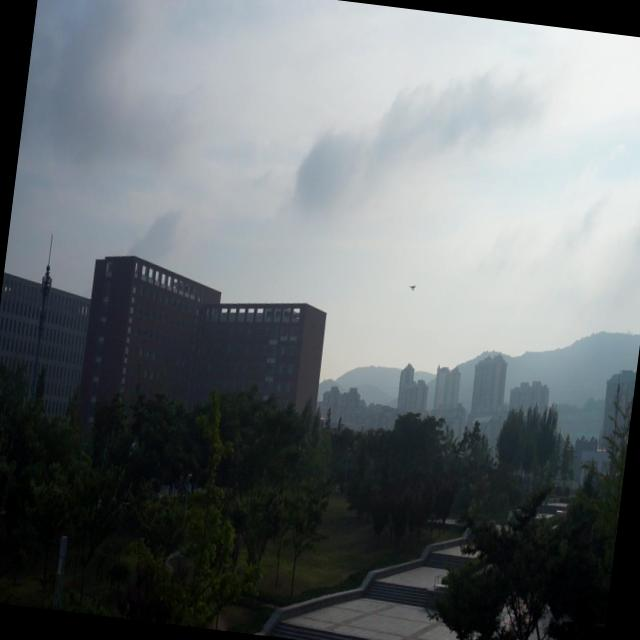drone: (407, 279, 419, 293)
